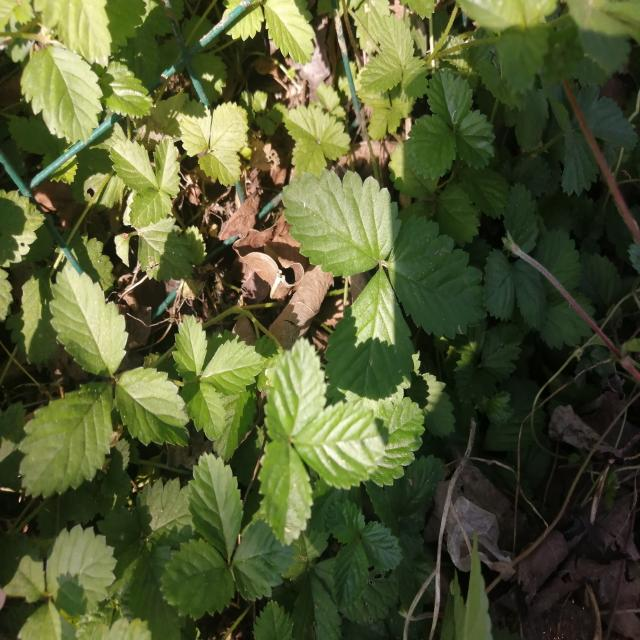Mock_strawberry: (292, 180, 508, 396), (11, 284, 260, 464), (232, 334, 396, 532)
